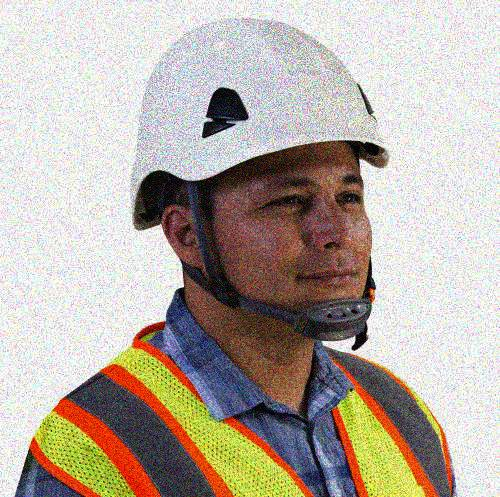helmet: (125, 14, 387, 342)
